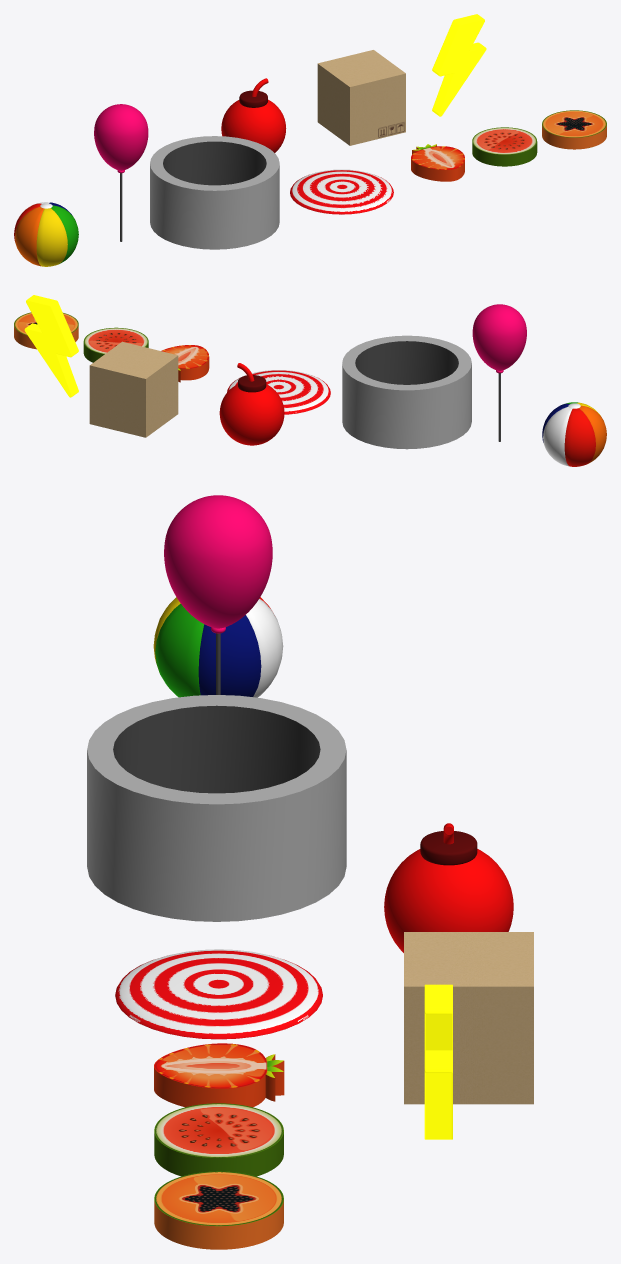
3 renders of one model, top to bottom at view 1: azimuth 30°, elevation 25°; view 2: azimuth 150°, elevation 25°; view 3: azimuth 270°, elevation 25°, orthographic. The views are drawn at different scales.
Visible parts, largest first — view 1: hole, box, bumper, beachball, balloon, flash, bomb, duahau, dudu, dau; view 2: hole, box, bomb, beachball, balloon, flash, bumper, duahau, dau, dudu; view 3: hole, box, bumper, balloon, bomb, beachball, dudu, duahau, dau, flash.
Part boxes in pixels (left/top/right/bottom): hole: left=150, top=136, right=279, bottom=249; box: left=317, top=50, right=405, bottom=145; bumper: left=290, top=169, right=393, bottom=214; beachball: left=14, top=202, right=78, bottom=266; balloon: left=94, top=104, right=148, bottom=241; flash: left=432, top=14, right=486, bottom=116; bomb: left=221, top=78, right=286, bottom=152; duahau: left=472, top=127, right=537, bottom=166; dudu: left=542, top=110, right=606, bottom=149; dau: left=411, top=144, right=464, bottom=181; hole: left=342, top=335, right=471, bottom=449; box: left=89, top=341, right=178, bottom=437; bomb: left=219, top=363, right=284, bottom=445; beachball: left=542, top=402, right=606, bottom=466; balloon: left=472, top=304, right=526, bottom=441; flash: left=24, top=295, right=78, bottom=397; bumper: left=227, top=370, right=330, bottom=414; duahau: left=83, top=327, right=148, bottom=362; dau: left=161, top=345, right=209, bottom=382; dudu: left=14, top=312, right=78, bottom=349; hole: left=87, top=695, right=346, bottom=921; box: left=404, top=932, right=533, bottom=1104; bumper: left=115, top=949, right=322, bottom=1039; balloon: left=164, top=495, right=272, bottom=694; bomb: left=384, top=823, right=513, bottom=952; beachball: left=153, top=597, right=283, bottom=697; dudu: left=154, top=1171, right=283, bottom=1249; duahau: left=154, top=1103, right=283, bottom=1176; dau: left=154, top=1043, right=284, bottom=1107; flash: left=424, top=984, right=452, bottom=1139.
Bounding box in the file's own units: 1040 × 239 × 344.
Materials: 12 (6 with a texture image).
